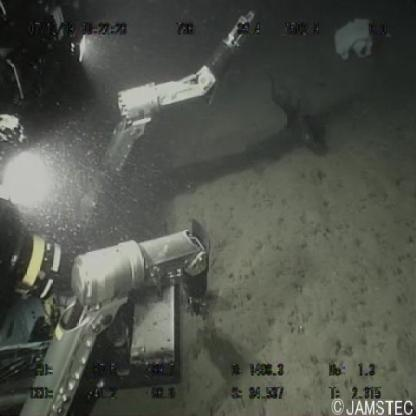Rov: (1, 1, 266, 416)
Rác: (331, 14, 377, 62)
